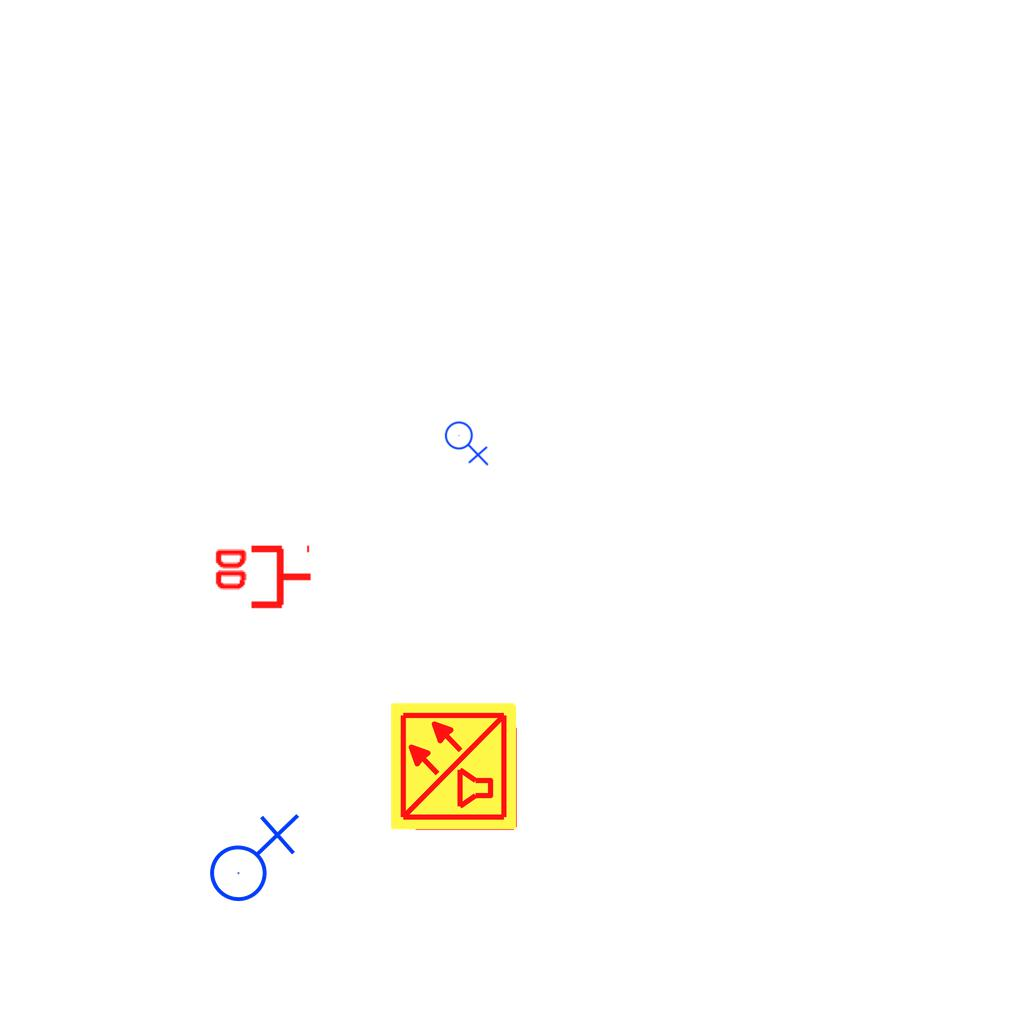Datenanschluss_zweifach: (211, 544, 314, 613)
Elektroanschluss_allgemein_230V_Geraeteanschlussdose_230V: (201, 809, 300, 903), (444, 417, 491, 466)
OKW_Multisensormelder_(Kombination_optischer_Rauch-Kahlenmonoxid_Waerme-Melder): (388, 700, 520, 832)
